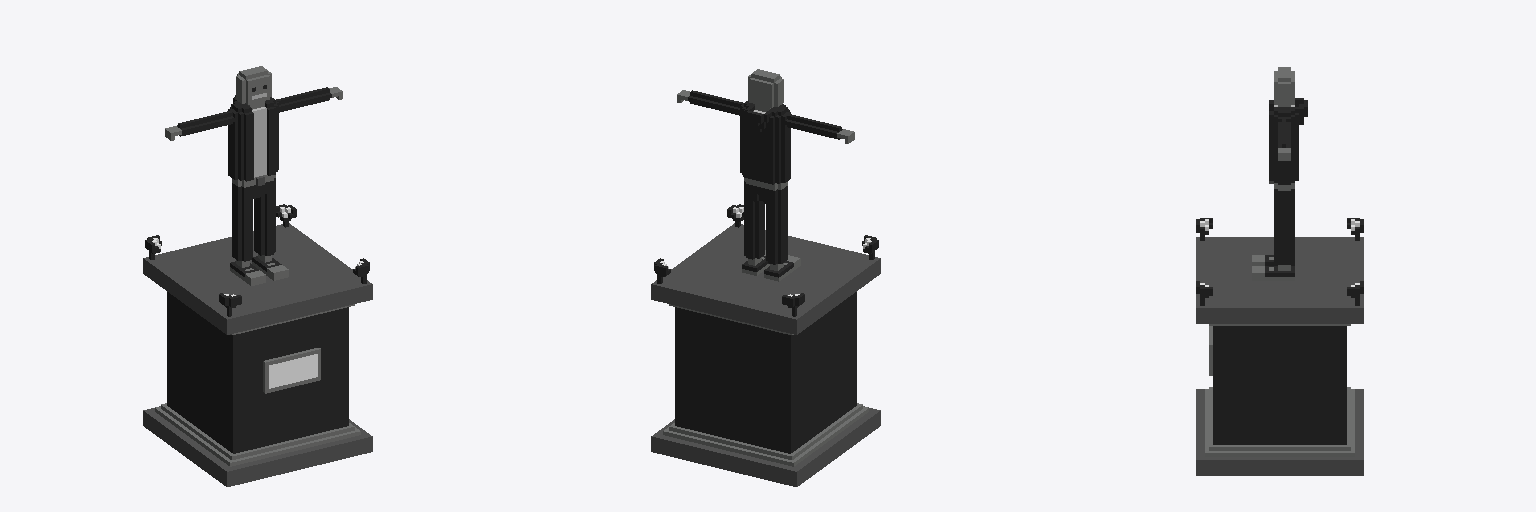
3 views of the same model, side by side, from view 1: azimuth 30°, elevation 25°; view 2: azimuth 150°, elevation 25°; view 3: azimuth 270°, elevation 25° (orthographic).
Visible parts, largest first — view 1: object 1; view 2: object 1; view 3: object 1.
Part boxes in pixels (x1,y1,x2,y2): object 1: (143, 66, 372, 486); object 1: (651, 69, 880, 486); object 1: (1196, 67, 1363, 475).
Bounding box in the file's own units: 4.6 × 9.4 × 3.9.
Materials: 1 (1 with a texture image).